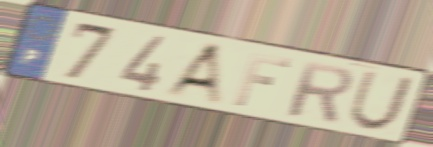4: (116, 32, 169, 93)
7: (65, 18, 117, 82)
A: (161, 41, 227, 109)
F: (230, 51, 295, 109)
R: (285, 58, 356, 125)
U: (345, 69, 418, 133)
